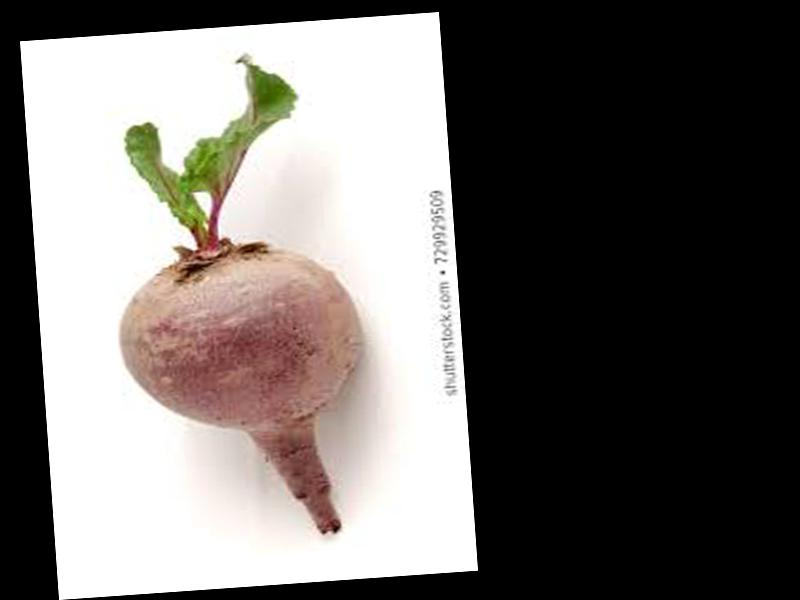Beet: (102, 47, 373, 544)
